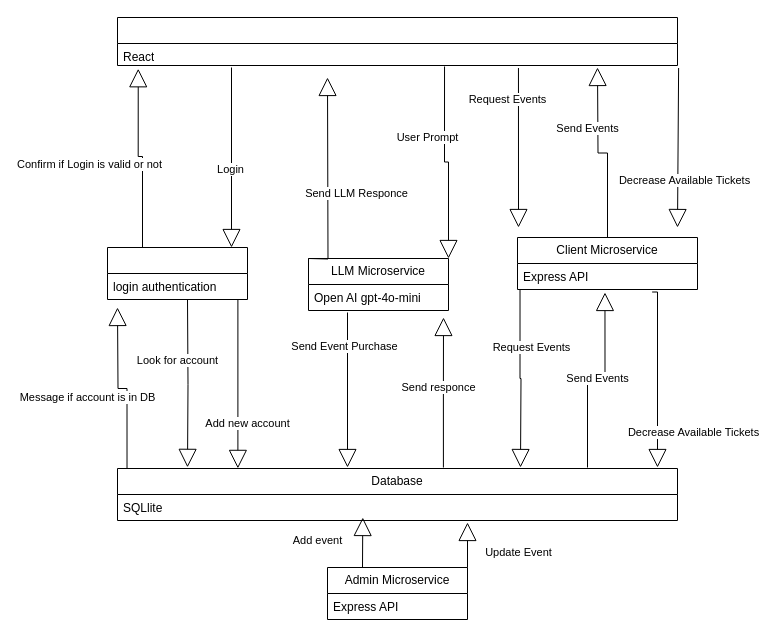
Some shapes in this 776 by 640 pixel diagram are drawn without their labels. The box of each missing label's shape, as (x1, y1, x2, y2) in pixels:
Frontend: (116, 16, 678, 66)
User Auth: (106, 246, 248, 300)
